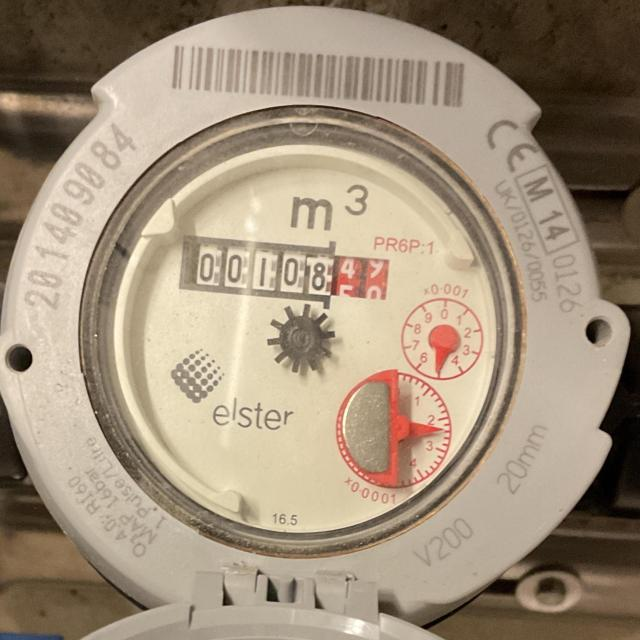gaz_meter: (85, 100, 530, 558)
indication: (184, 237, 389, 305)
